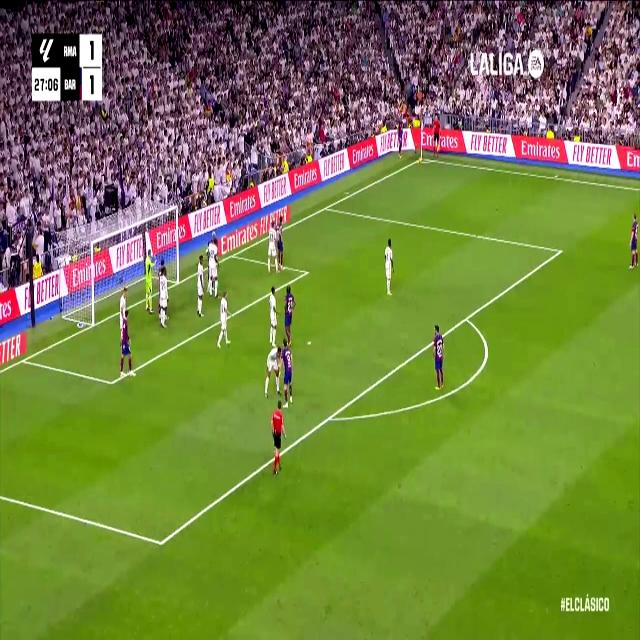bigarea_bottom_inner: (154, 526, 168, 558)
bigarea_bottom_outter: (322, 199, 331, 215)
bigarea_top_inner: (554, 239, 564, 261)
bottom_arc_area_intersection: (324, 404, 336, 430)
corner: (416, 152, 426, 164)
smallarea_bottom_inner: (108, 371, 116, 393)
smallarea_bottom_outter: (19, 352, 28, 368)
smallarea_top_inner: (302, 264, 311, 280)
top_arc_area_intersection: (462, 308, 470, 327)
